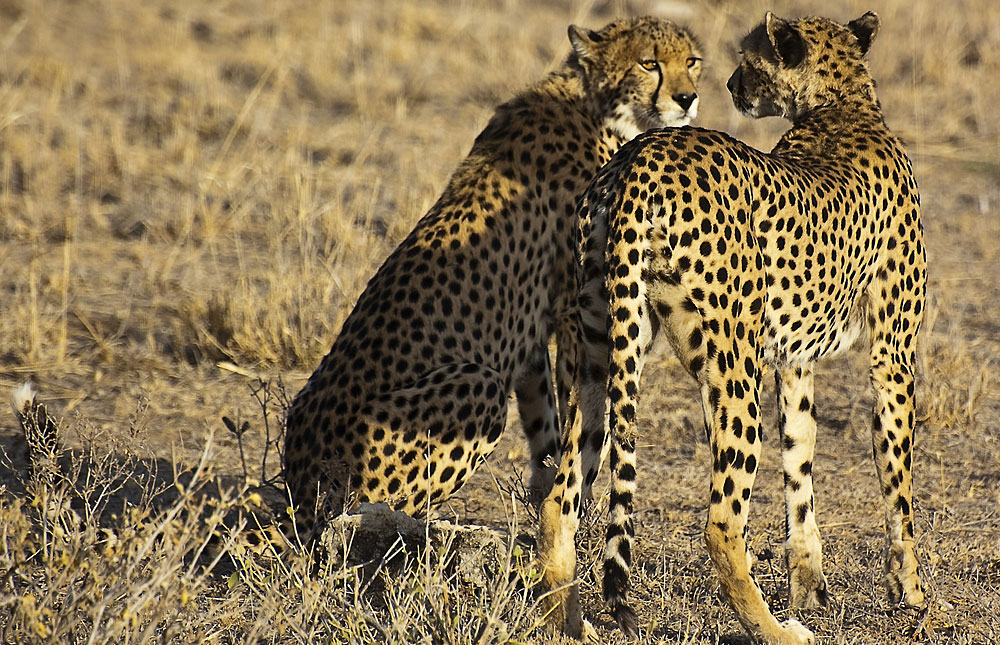Cheetah: (252, 15, 700, 540), (577, 9, 933, 643)
